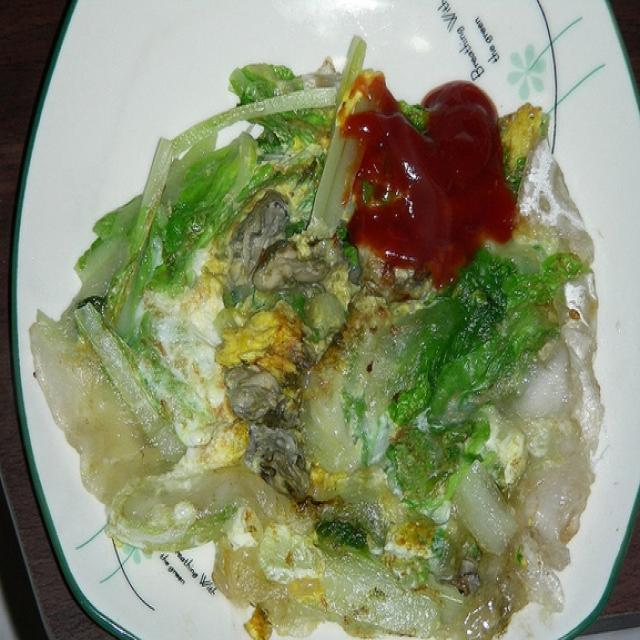熟制海鲜: (11, 11, 631, 628)
